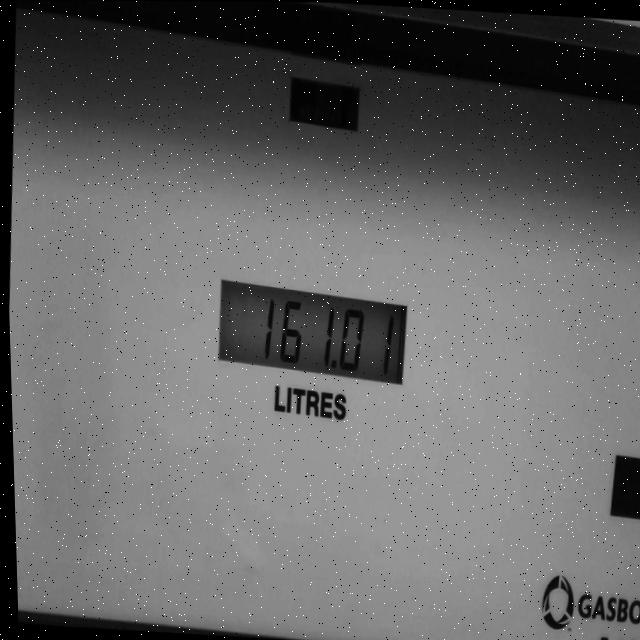.: (329, 358, 338, 370)
0: (336, 305, 363, 381)
1: (376, 308, 394, 378), (319, 307, 335, 374), (259, 301, 274, 359)
6: (276, 299, 304, 363)
